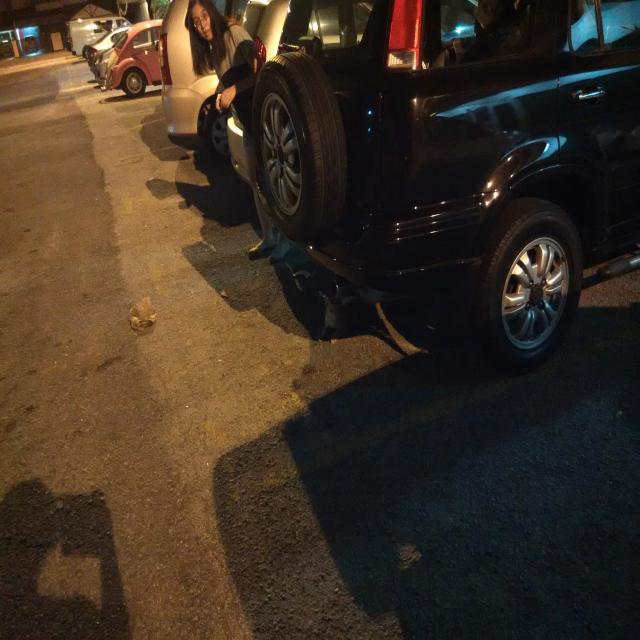Cat: (314, 282, 365, 345)
People: (177, 0, 299, 271)
car: (250, 9, 640, 374), (224, 0, 394, 206), (132, 0, 260, 159), (104, 17, 195, 103), (85, 23, 145, 87)
